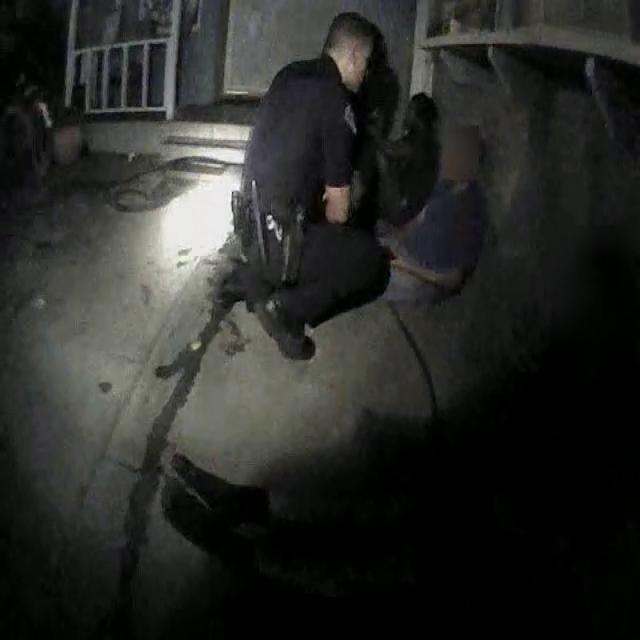gun: (256, 180, 315, 298)
